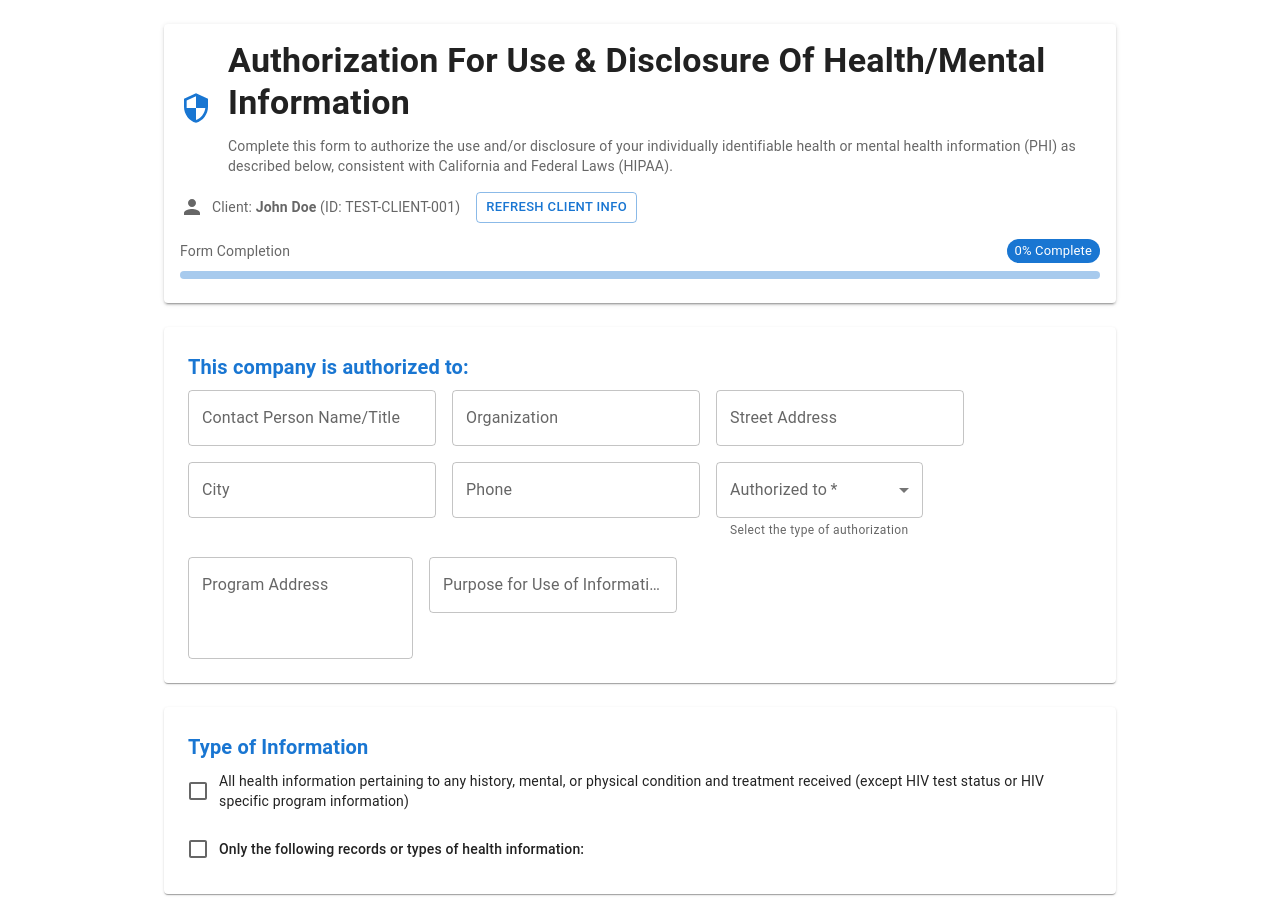
Test: AuthUseDiscHMHInfo - Authorization for Health Information Form › Authorization Section › T12: authorization dropdown has correct options
What coordinates should you click on to do the following:
click the dropdown named "Authorized to"
I would click on:
 (819, 490)
Its box is [716,462,923,518].
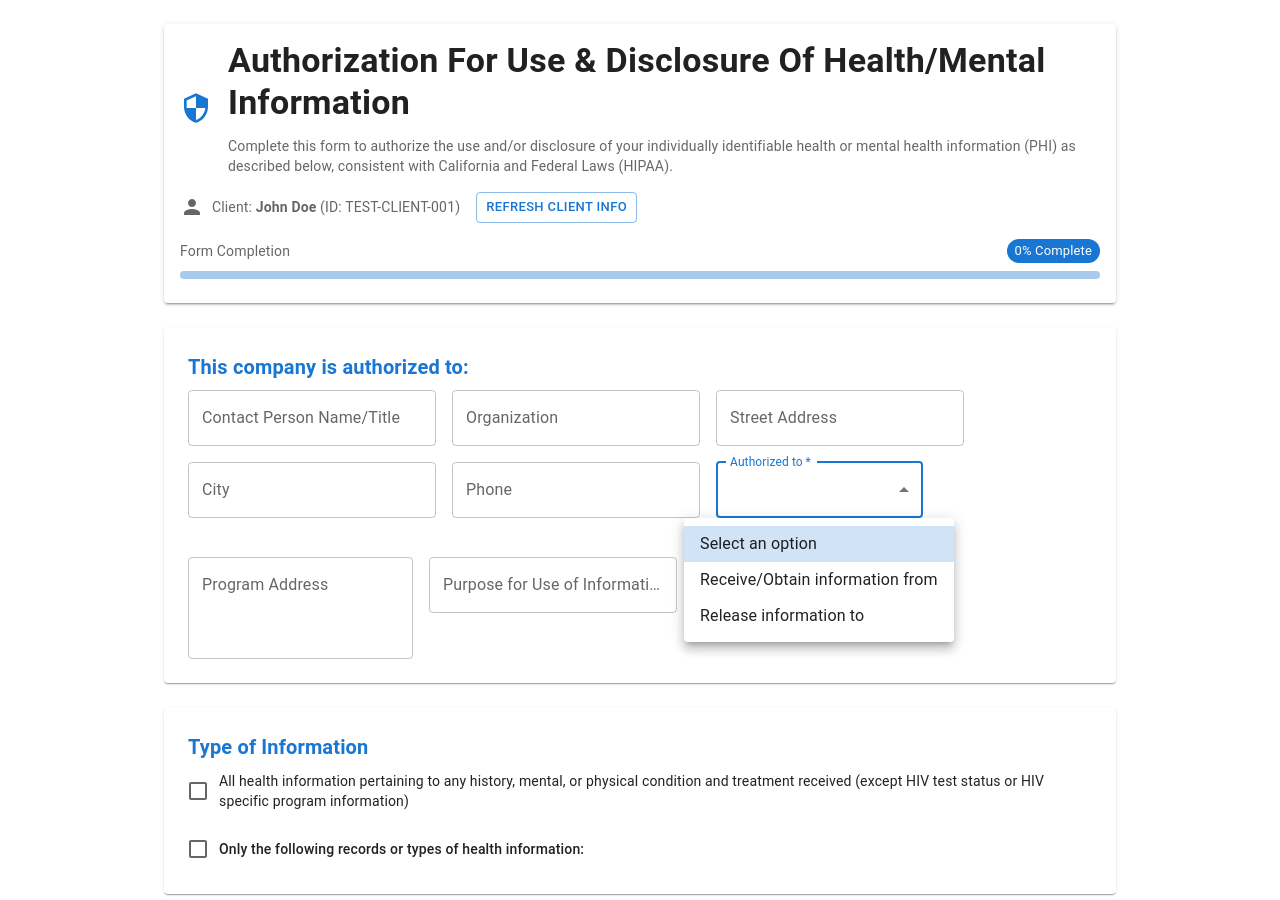
Expected: the option "Receive/Obtain information from" is shown, [700,570,938,589]
Expected: the option "Release information to" is shown, [700,606,864,625]
